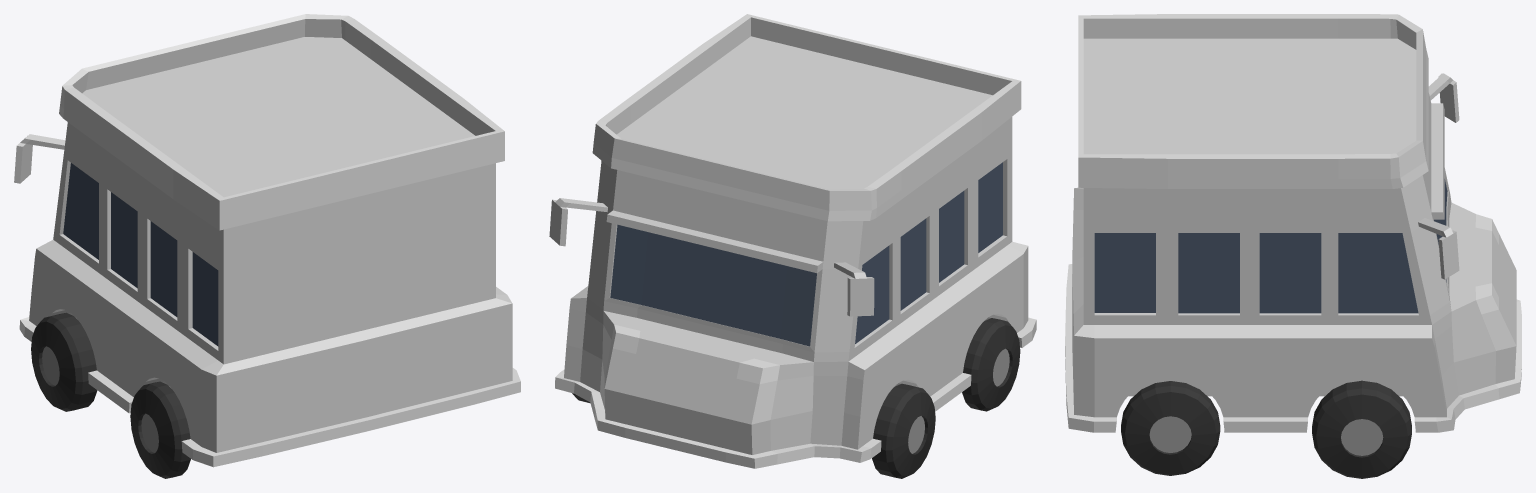
File: Bus 2.fbx
3 views of the same model, side by side, from view 1: azimuth 30°, elevation 25°; view 2: azimuth 150°, elevation 25°; view 3: azimuth 270°, elevation 25° (orthographic). The views are drawn at different scales.
Parts seen in each view (by area): view 1: Cube; view 2: Cube; view 3: Cube.
Boxes of the visible parts, x1=… form: Cube: x1=14, y1=14, x2=520, y2=478; Cube: x1=549, y1=14, x2=1036, y2=478; Cube: x1=1065, y1=14, x2=1521, y2=478.
Bounding box in the file's own units: 303 × 254 × 337.
